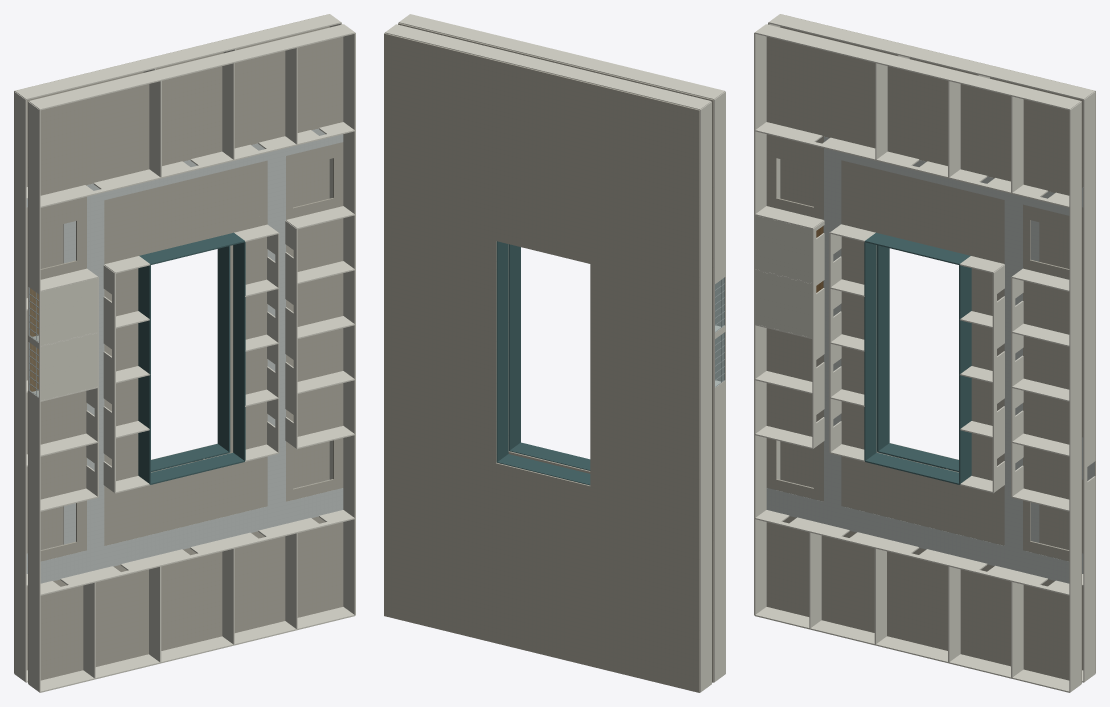
The model's file is povo1_interior_study.obj.
3 renders of one model, left to right at view 1: azimuth 30°, elevation 25°; view 2: azimuth 150°, elevation 25°; view 3: azimuth 330°, elevation 25°, orthographic.
Visible parts, largest first — view 1: academic_first_slab_011, academic_first_slab_000, academic_first_slab_006, academic_first_slab_005, academic_ground_outer_2_0_tail_material0, academic_first_slab_009, academic_first_slab_002, academic_first_outer_3_0_tail_material0, academic_first_east_corridor_000, academic_first_outer_1_0_tail_material0, academic_ground_outer_1_0_tail_material0, academic_first_west_corridor_000 (+55 smaller); view 2: academic_ground_slab_003, academic_ground_slab_000, academic_ground_slab_002, academic_ground_slab_001, academic_ground_outer_2_0_tail_material0, academic_first_outer_1_0_tail_material0, academic_ground_outer_1_0_tail_material0, academic_first_outer_2_0_tail_material0_windowcut_0_windowcut_0, academic_ground_court_3_0_tail_material0, academic_first_court_3_0_tail_material0, academic_first_outer_2_0_tail_material0_windowcut_1, academic_first_slab_011 (+2 smaller); view 3: academic_first_slab_011, academic_first_slab_000, academic_first_slab_006, academic_first_slab_005, academic_first_outer_3_0_tail_material0, academic_first_slab_009, academic_first_slab_002, academic_ground_outer_3_0_tail_material0, academic_first_west_corridor_000, academic_first_east_corridor_000, academic_first_outer_1_0_tail_material0, academic_ground_outer_1_0_tail_material0 (+57 smaller).
Part boxes in pixels (box(x1,y1,x2,y2)): academic_first_slab_011: box(28, 24, 343, 231); academic_first_slab_000: box(28, 477, 343, 683); academic_first_slab_006: box(233, 218, 343, 452); academic_first_slab_005: box(28, 268, 138, 502); academic_ground_outer_2_0_tail_material0: box(14, 91, 26, 682); academic_first_slab_009: box(76, 168, 292, 260); academic_first_slab_002: box(76, 449, 292, 542); academic_first_outer_3_0_tail_material0: box(343, 33, 355, 615); academic_first_east_corridor_000: box(267, 156, 285, 525); academic_first_outer_1_0_tail_material0: box(29, 24, 355, 110); academic_ground_outer_1_0_tail_material0: box(15, 14, 341, 100); academic_first_west_corridor_000: box(87, 183, 104, 569); academic_ground_slab_003: box(384, 33, 699, 290); academic_ground_slab_000: box(384, 436, 699, 692); academic_ground_slab_002: box(384, 214, 496, 463); academic_ground_slab_001: box(590, 264, 699, 512); academic_ground_outer_2_0_tail_material0: box(700, 102, 711, 692); academic_first_outer_1_0_tail_material0: box(399, 14, 725, 99); academic_ground_outer_1_0_tail_material0: box(385, 24, 711, 109); academic_first_outer_2_0_tail_material0_windowcut_0_windowcut_0: box(714, 380, 725, 682); academic_ground_court_3_0_tail_material0: box(496, 241, 508, 462); academic_first_court_3_0_tail_material0: box(509, 244, 520, 450); academic_first_outer_2_0_tail_material0_windowcut_1: box(714, 91, 725, 284); academic_first_slab_011: box(398, 23, 713, 230); academic_first_slab_011: box(766, 24, 1081, 231); academic_first_slab_000: box(766, 477, 1081, 683); academic_first_slab_006: box(971, 268, 1081, 502); academic_first_slab_005: box(766, 225, 876, 452); academic_first_outer_3_0_tail_material0: box(1069, 101, 1081, 692); academic_first_slab_009: box(814, 167, 1030, 260); academic_first_slab_002: box(814, 448, 1030, 541); academic_ground_outer_3_0_tail_material0: box(1083, 91, 1095, 468); academic_first_west_corridor_000: box(824, 136, 841, 525); academic_first_east_corridor_000: box(1004, 200, 1022, 569); academic_first_outer_1_0_tail_material0: box(754, 24, 1080, 110); academic_ground_outer_1_0_tail_material0: box(768, 14, 1094, 100).
Bounding box in the file's own units: 47.18 × 83.18 × 6.72.
14 materials, 4 textured.
